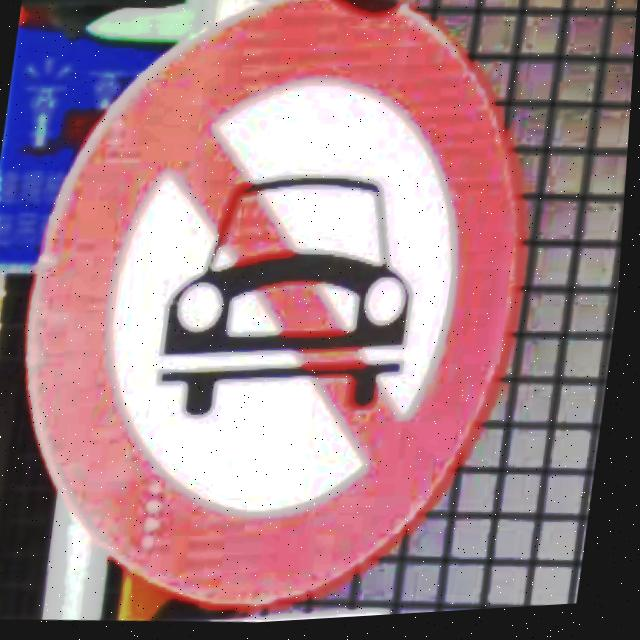nocar: (28, 0, 527, 616)
